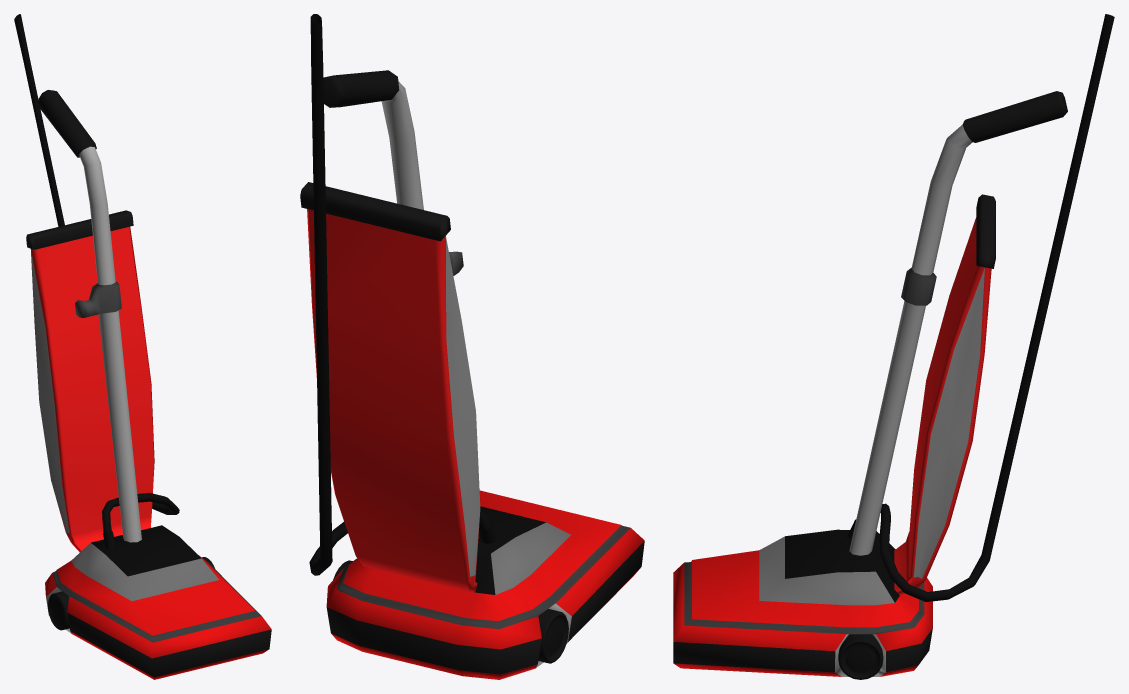
File: NewVacuumWithMorphTargets.FBX
3 renders of one model, left to right at view 1: azimuth 30°, elevation 25°; view 2: azimuth 150°, elevation 25°; view 3: azimuth 270°, elevation 25°, orthographic. The views are drawn at different scales.
Visible parts, largest first — view 1: inflatedVacuumBase002; view 2: inflatedVacuumBase002; view 3: inflatedVacuumBase002.
Boxes of the visible parts, <box> form: inflatedVacuumBase002: <box>14,14,271,679</box>; inflatedVacuumBase002: <box>300,14,644,679</box>; inflatedVacuumBase002: <box>673,14,1114,679</box>.
Bounding box in the file's own units: 33.56 × 110 × 71.03.
